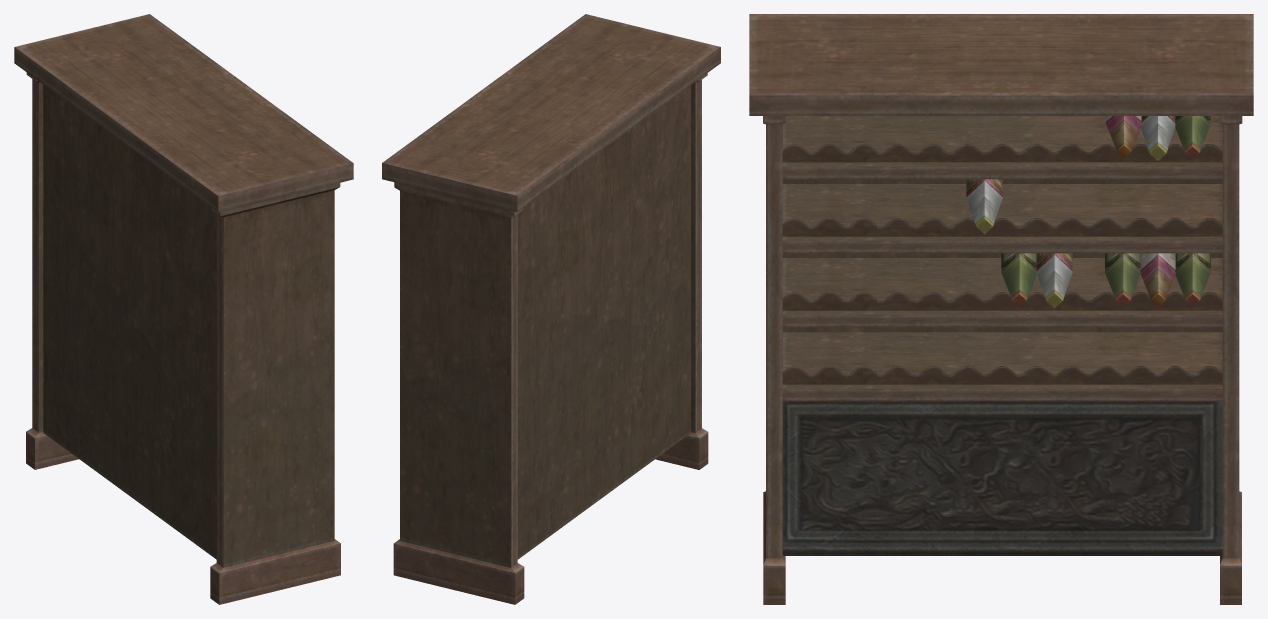
Rendered from bg_lut_lucastle_furniture04_sm_artree.FBX.
3 views of the same model, side by side, from view 1: azimuth 30°, elevation 25°; view 2: azimuth 150°, elevation 25°; view 3: azimuth 270°, elevation 25° (orthographic). The views are drawn at different scales.
Visible parts, largest first — view 1: bg_lut_lucastle_furniture04_sm_artree; view 2: bg_lut_lucastle_furniture04_sm_artree; view 3: bg_lut_lucastle_furniture04_sm_artree.
Boxes of the visible parts, left/top/right/bottom form: bg_lut_lucastle_furniture04_sm_artree: left=14, top=14, right=353, bottom=604; bg_lut_lucastle_furniture04_sm_artree: left=382, top=14, right=720, bottom=604; bg_lut_lucastle_furniture04_sm_artree: left=749, top=14, right=1253, bottom=604.
Bounding box in the file's own units: 68.45 × 200 × 178.
